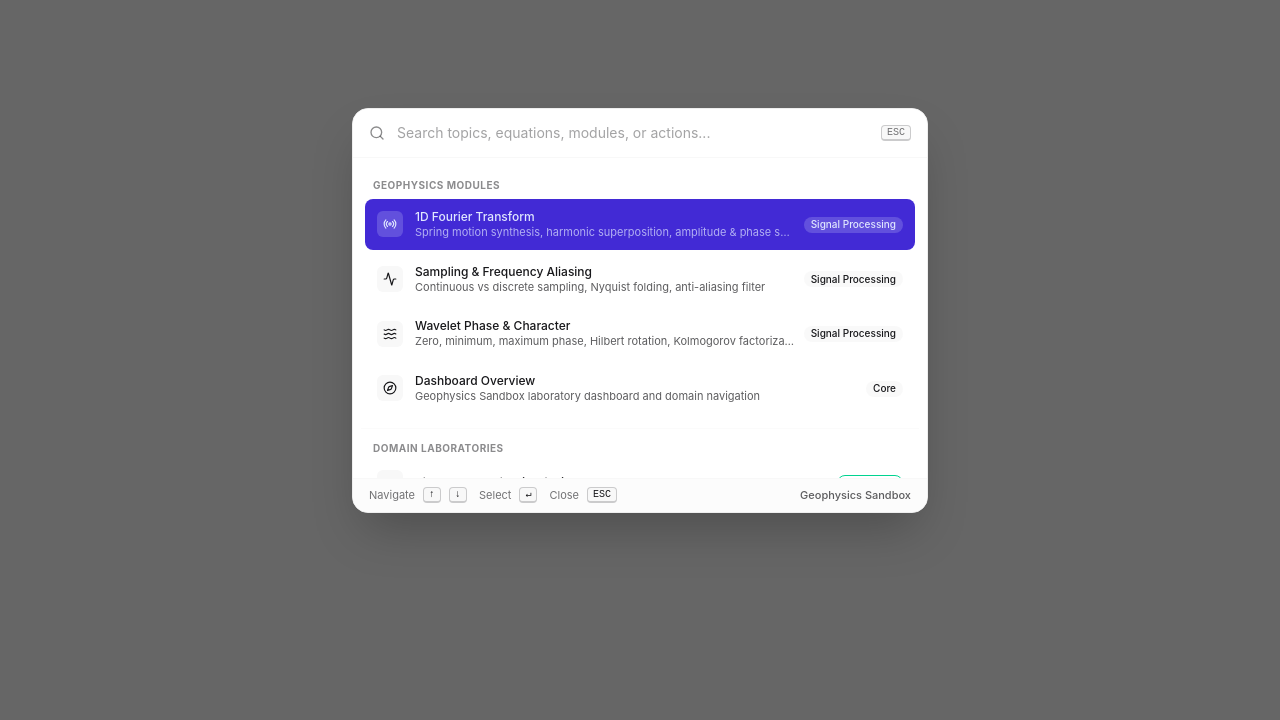
Test: CommandPalette & Ctrl+K Search › filters results when typing search keywords
In the dropdown with placeholder "Search topics, equations, modules, or actions...": (633, 133) [385,109,881,157], type "ricker"
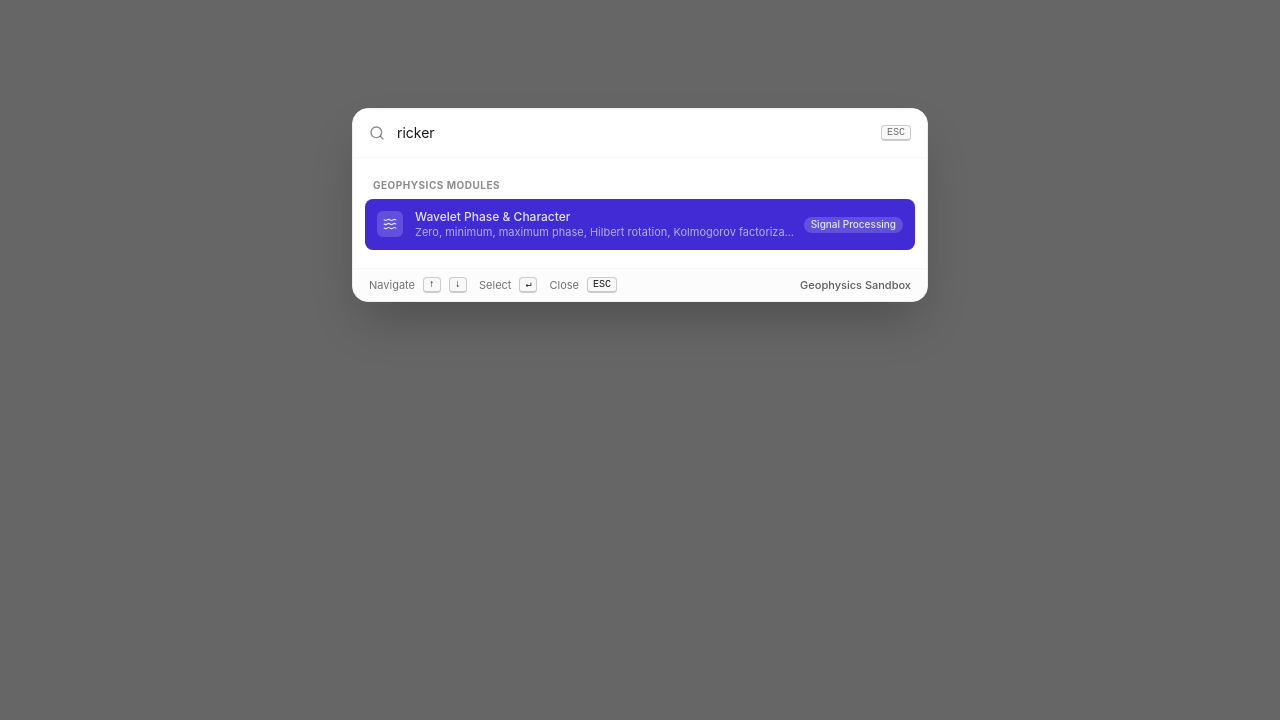
Expected: the text "Wavelet Phase & Character" is shown, [415,209,570,224]
Expected: the option "1D Fourier Transform" is gone
